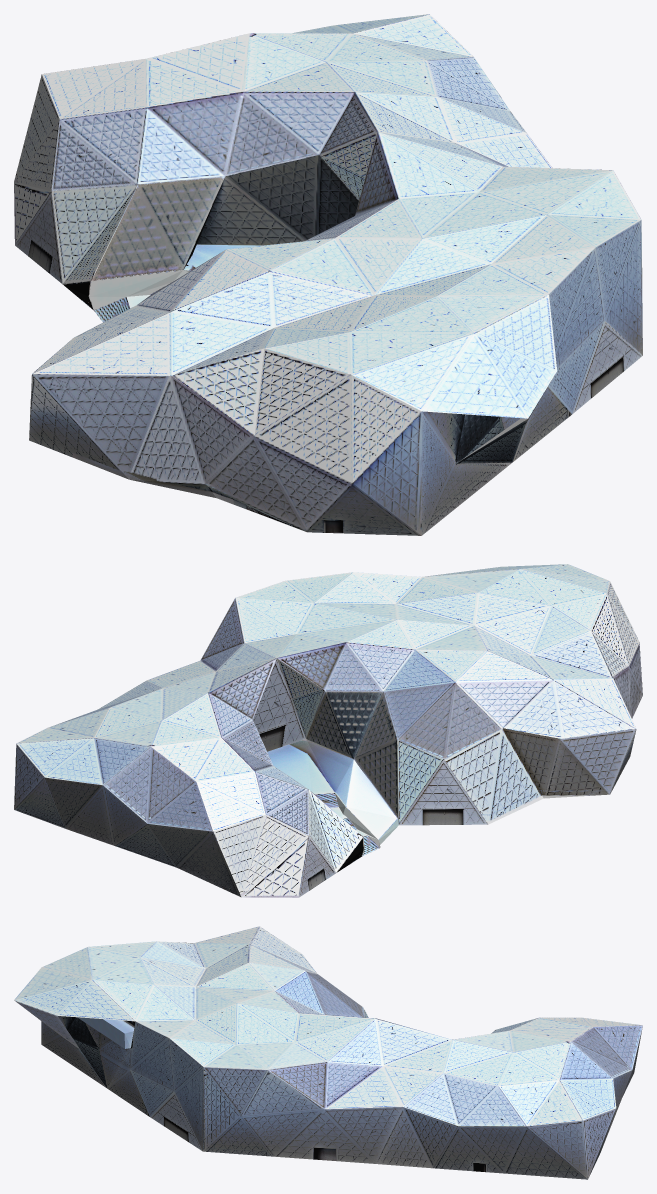
The model's file is a01_placed4.glb.
The picture shows the model from 3 angles, top to bottom: view 1: azimuth 30°, elevation 25°; view 2: azimuth 150°, elevation 25°; view 3: azimuth 270°, elevation 25°; orthographic projection. The views are drawn at different scales.
Visible parts, largest first — view 1: a01.002; view 2: a01.002; view 3: a01.002.
Boxes of the visible parts, x1,y1,x2,y2 form: a01.002: (14, 14, 642, 535); a01.002: (14, 564, 642, 897); a01.002: (14, 926, 642, 1179).
Size of the model in its own units: 113 by 30.71 by 151.
Materials: 1 (1 with a texture image).
